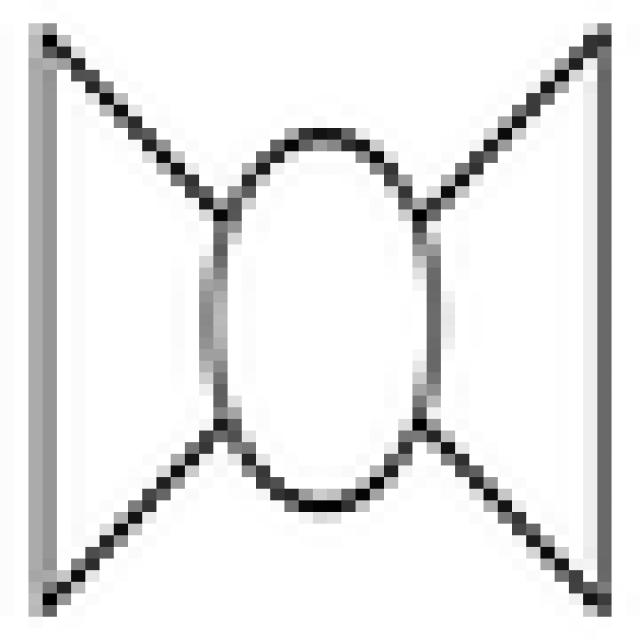ball valve: (51, 23, 610, 623)
